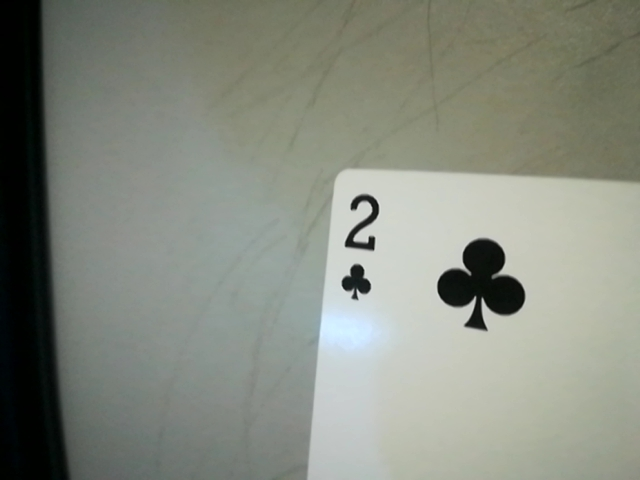mh 2: (330, 181, 395, 310)
